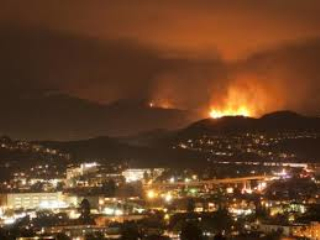fire: (198, 84, 267, 122)
